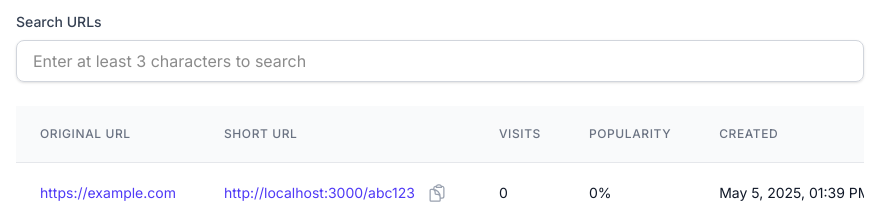
Test: UrlList › shows no URLs found message when search returns empty
The image size is (881, 219).
expect the link "https://example.com" is shown: met, box [40,184,176,201]
Type "nonexistent" into the field labelled "Search URLs".
click(440, 61); type("nonexistent")  # box [16,40,864,82]
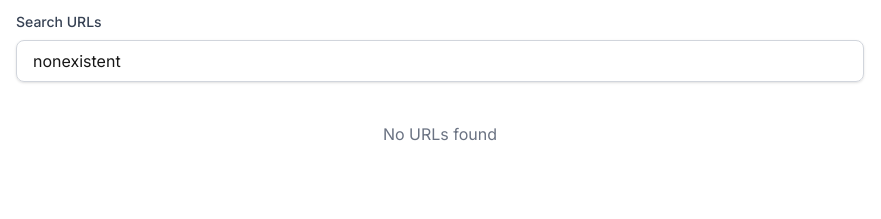
expect the text "No URLs found" is shown: met, box [383,124,497,144]
